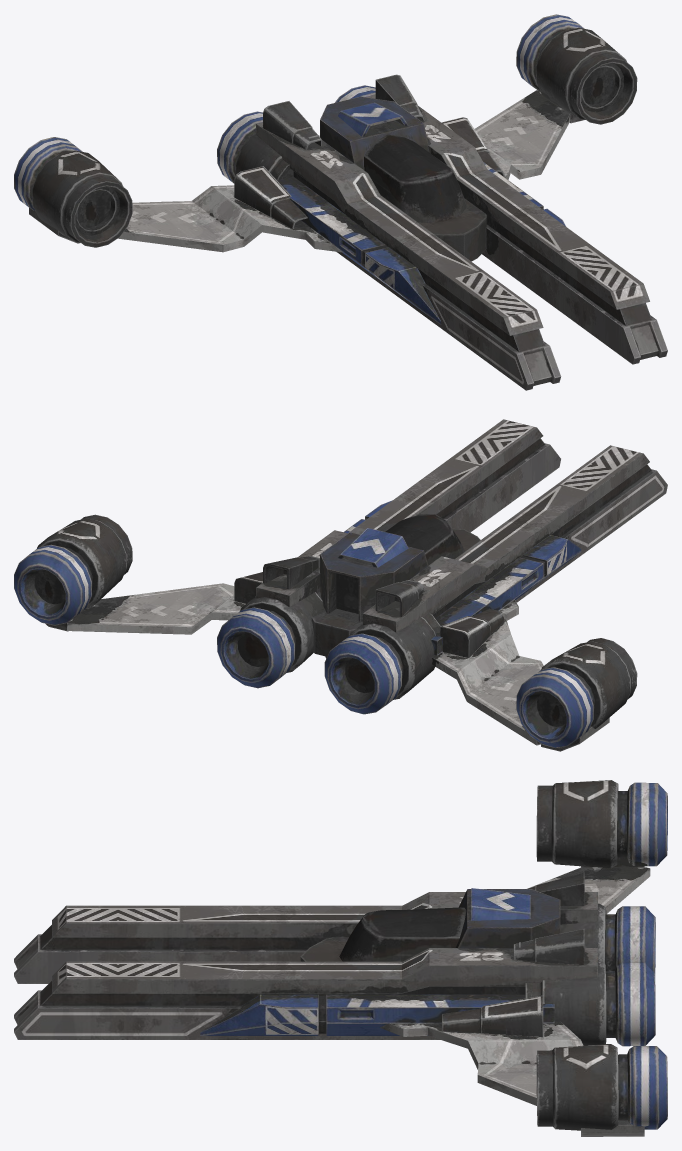
The model's file is executioner_blue.glb.
3 renders of one model, top to bottom at view 1: azimuth 30°, elevation 25°; view 2: azimuth 150°, elevation 25°; view 3: azimuth 270°, elevation 25°, orthographic. The views are drawn at different scales.
Parts seen in each view (by area): view 1: executioner; view 2: executioner; view 3: executioner.
Boxes of the visible parts, x1=… form: executioner: x1=14, y1=14, x2=667, y2=390; executioner: x1=14, y1=419, x2=667, y2=751; executioner: x1=14, y1=780, x2=667, y2=1136.
Size of the model in its own units: 10.02 by 1.85 by 9.2.
1 material, 1 textured.
